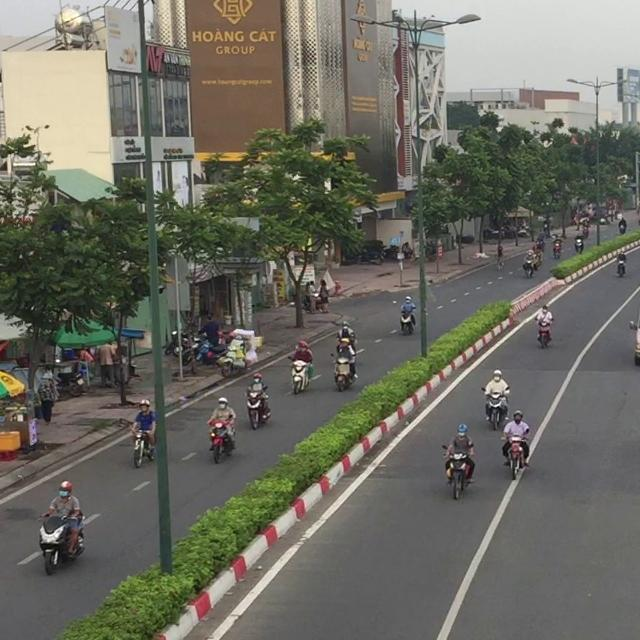Motorcycle: (36, 511, 85, 575), (118, 418, 156, 468), (441, 443, 474, 500), (206, 416, 236, 464), (480, 386, 510, 430), (501, 434, 529, 480), (245, 384, 271, 430), (216, 344, 246, 378), (329, 352, 355, 391), (288, 357, 312, 394), (534, 318, 553, 349), (336, 321, 356, 348), (398, 307, 414, 335)
